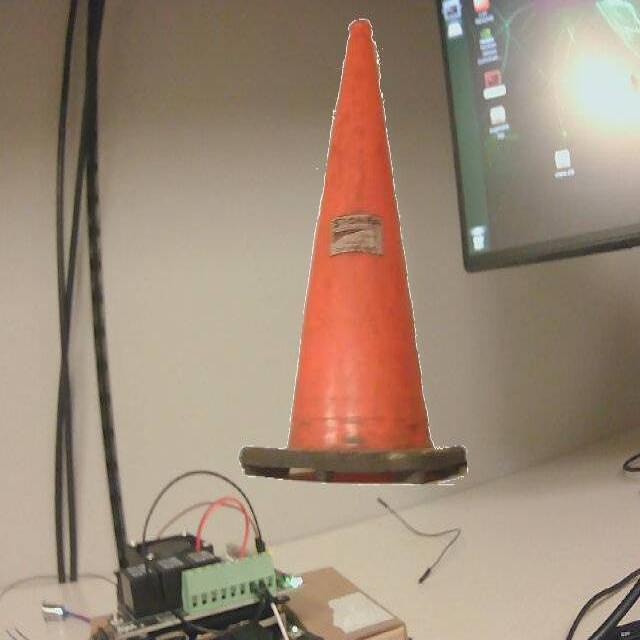traffic cone: (233, 12, 478, 495)
